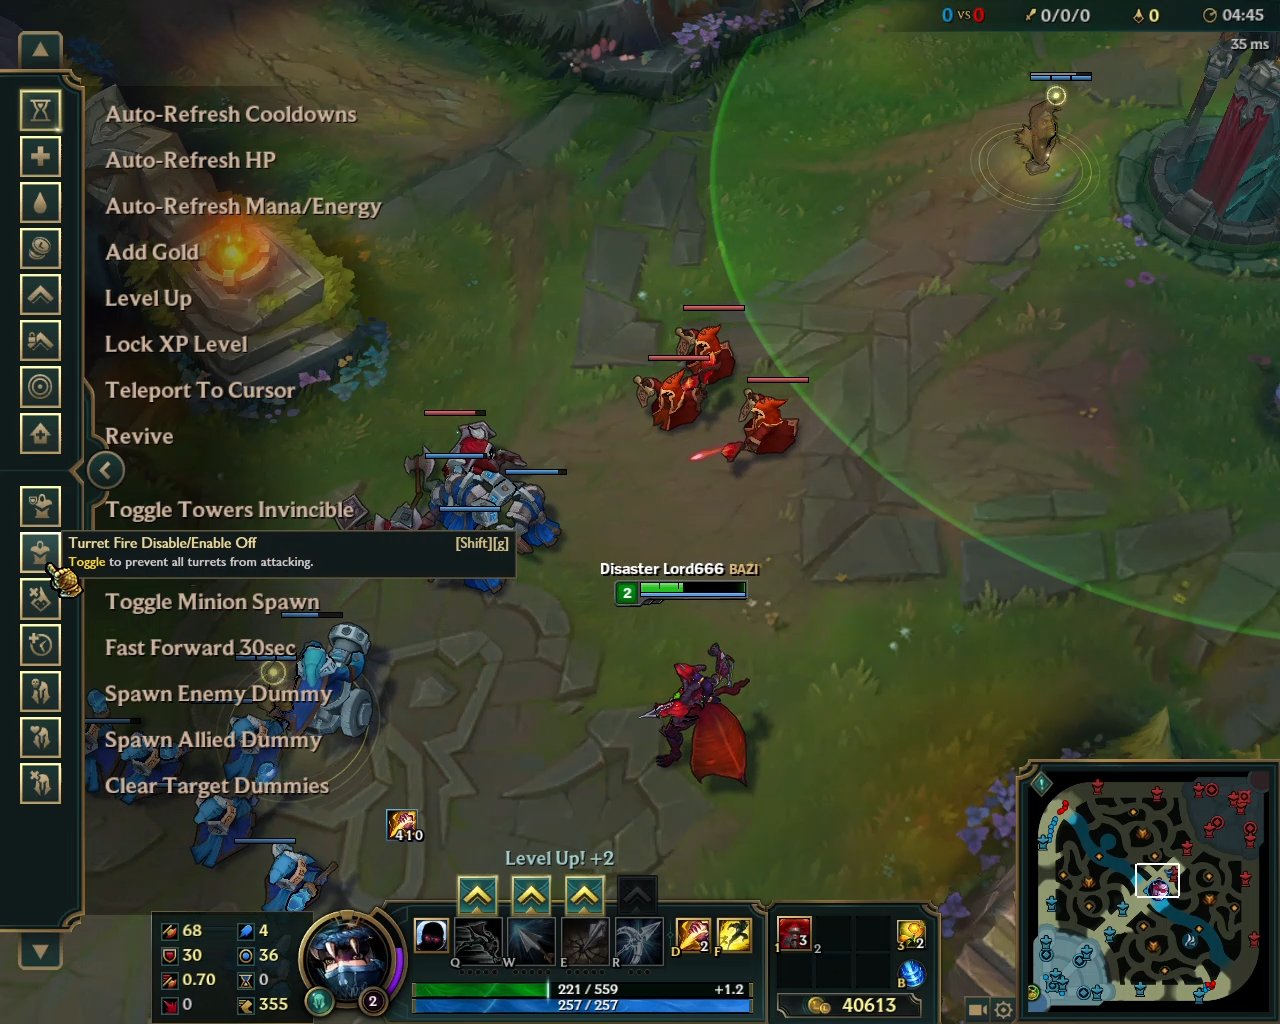EnemyMinion: (718, 376, 808, 466), (632, 354, 709, 436), (665, 306, 744, 381), (424, 408, 499, 469)
Vayne: (632, 639, 763, 796)
